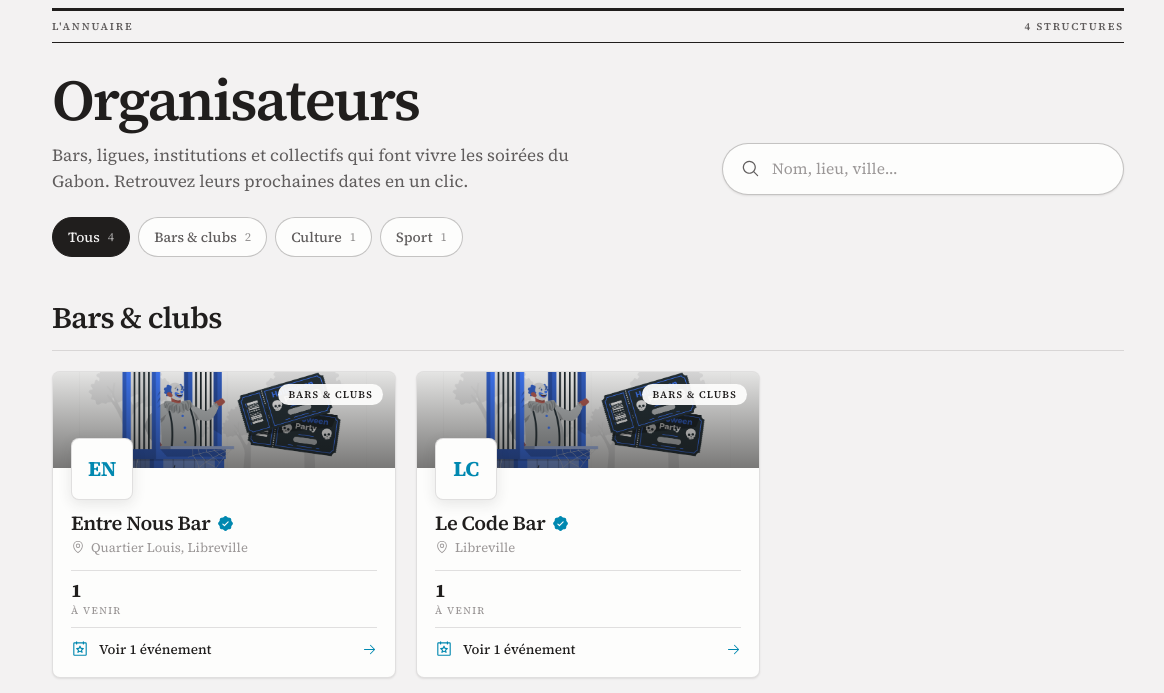
Test: Annuaire des organisateurs (API) › filtre par famille et synchronise l’URL
Click the button "Sport 1" at (422, 237), box [380, 217, 463, 257]
(page scrolled)
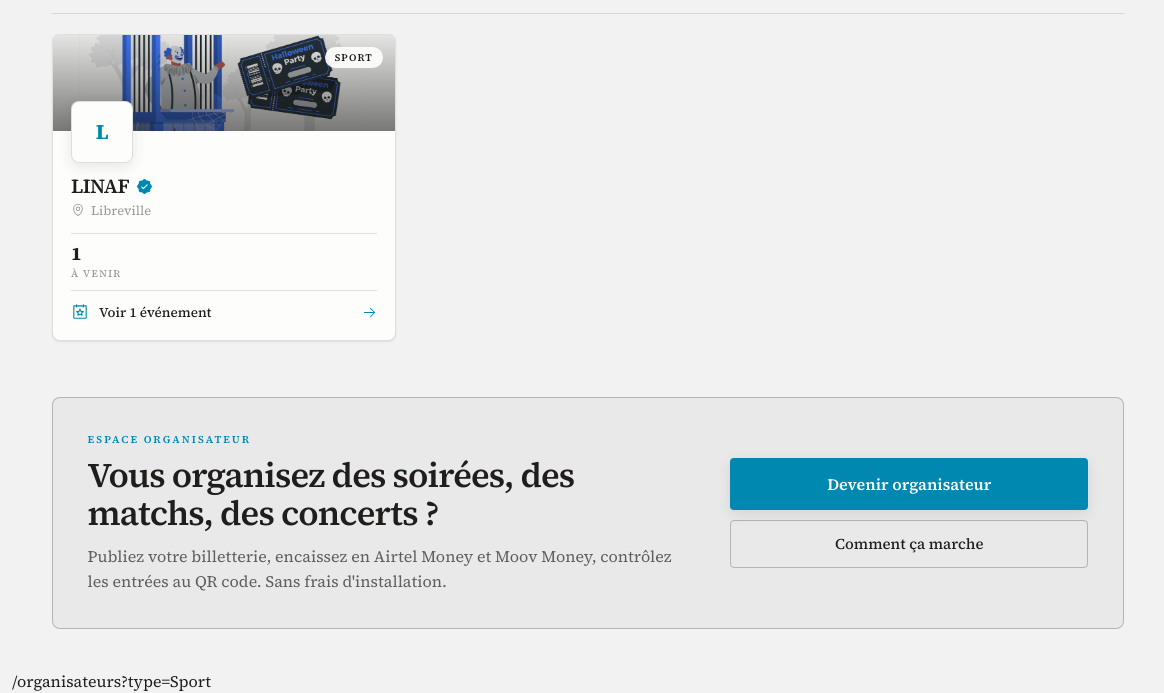
Now the text with test id "location" reads "/organisateurs?type=Sport", box [12, 670, 211, 692]
